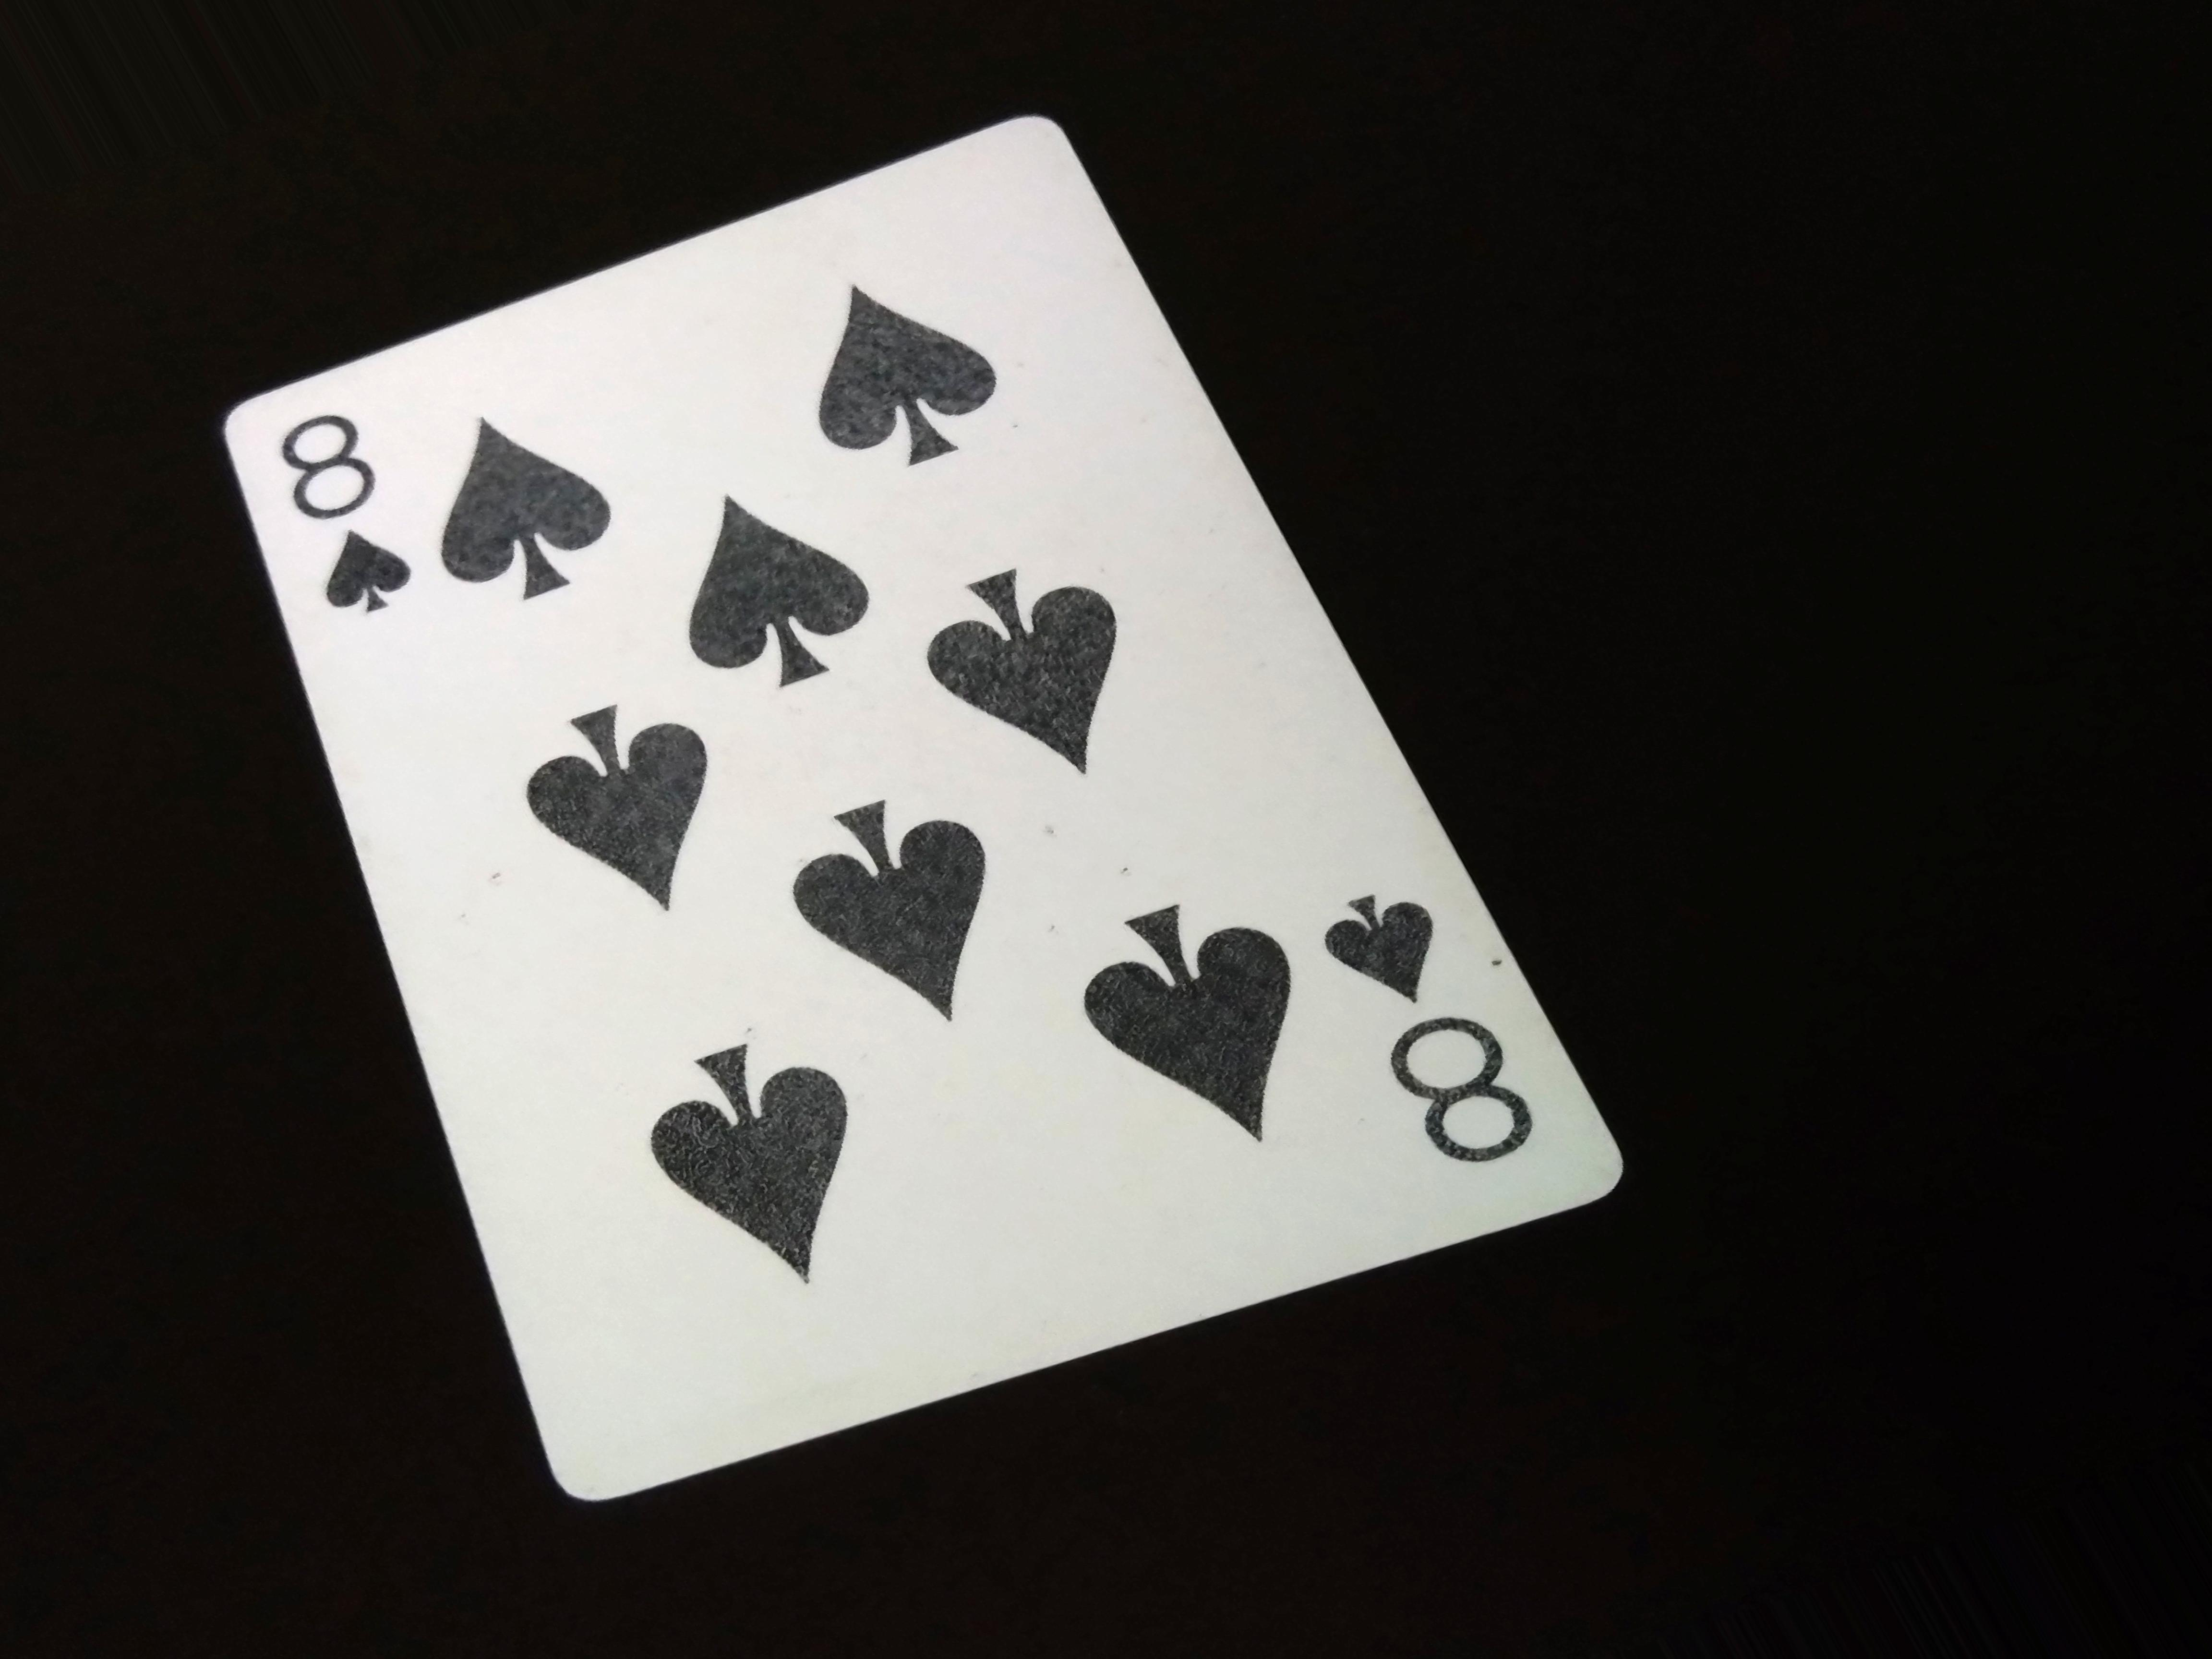8S: (1313, 866, 1538, 1211)
